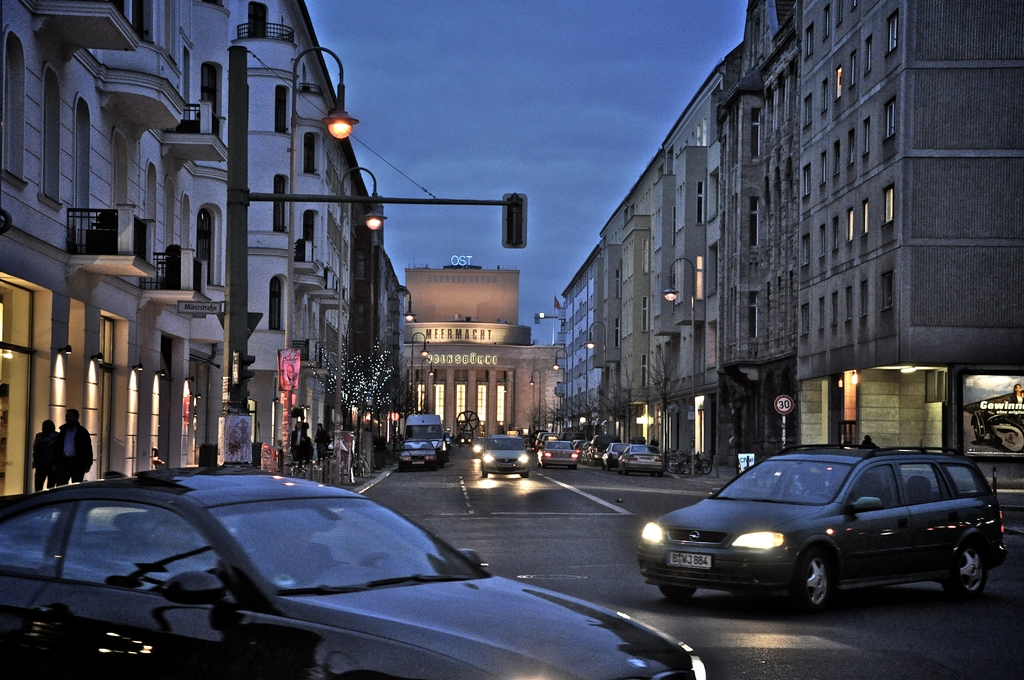mobil: (3, 483, 710, 680), (632, 450, 997, 605), (477, 436, 532, 477), (395, 438, 438, 473)
